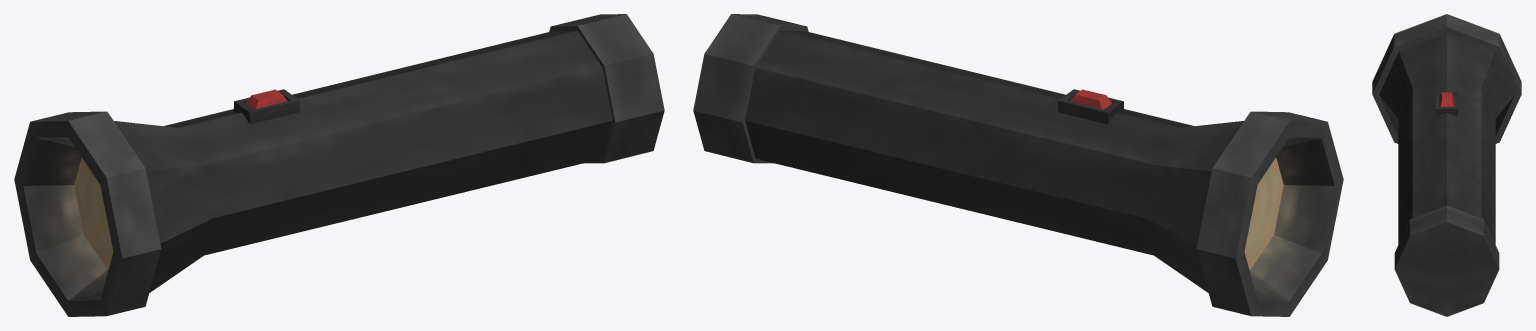
File: flashlight.fbx
The picture shows the model from 3 angles, left to right: view 1: azimuth 30°, elevation 25°; view 2: azimuth 150°, elevation 25°; view 3: azimuth 270°, elevation 25°; orthographic projection. The views are drawn at different scales.
Parts seen in each view (by area): view 1: flashlight; view 2: flashlight; view 3: flashlight.
Boxes of the visible parts, <box> form: flashlight: <box>14,14,664,316</box>; flashlight: <box>693,14,1343,316</box>; flashlight: <box>1372,14,1521,316</box>.
Bounding box in the file's own units: 912 × 306 × 306.
Materials: 1 (1 with a texture image).
